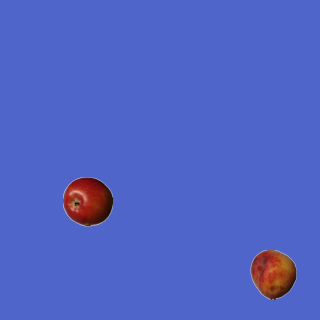Apple Braeburn: (62, 176, 112, 226)
Peach: (248, 249, 298, 299)
